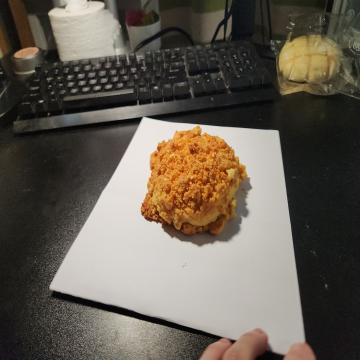soboru_bread: (142, 126, 247, 242)
